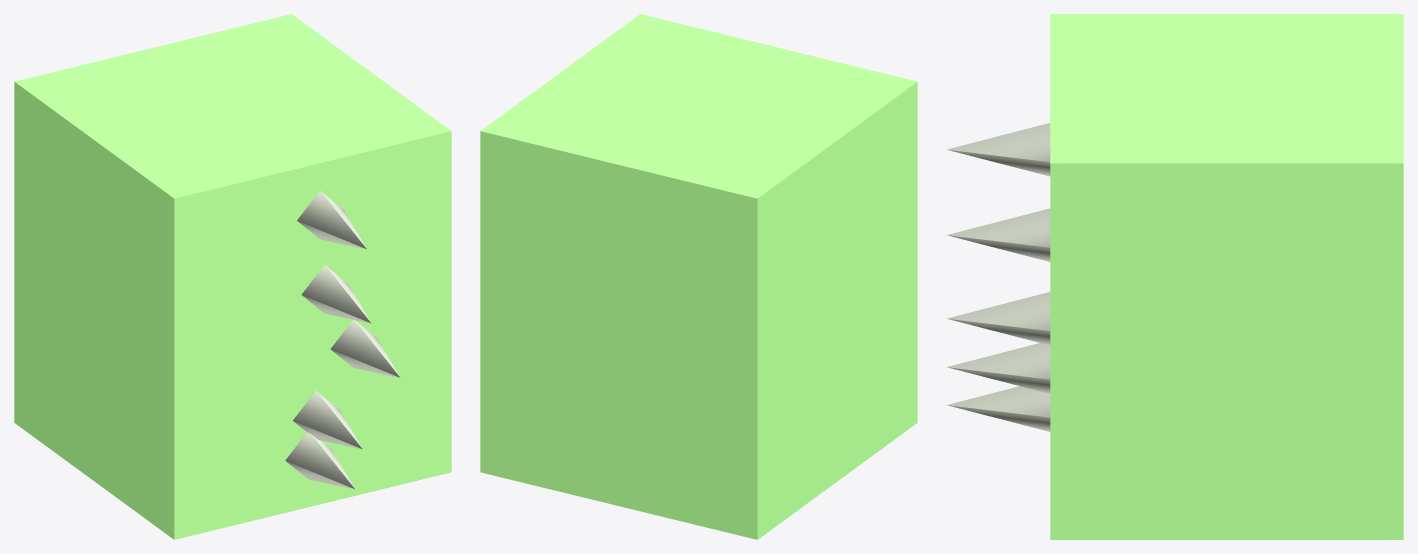
Rendered from cactus.glb.
3 renders of one model, left to right at view 1: azimuth 30°, elevation 25°; view 2: azimuth 150°, elevation 25°; view 3: azimuth 270°, elevation 25°, orthographic. The views are drawn at different scales.
Bounding box in the file's own units: 0.34 × 0.4 × 0.44.
